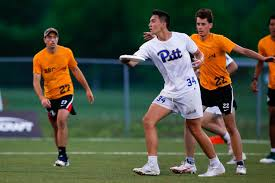disc: (118, 53, 147, 63)
